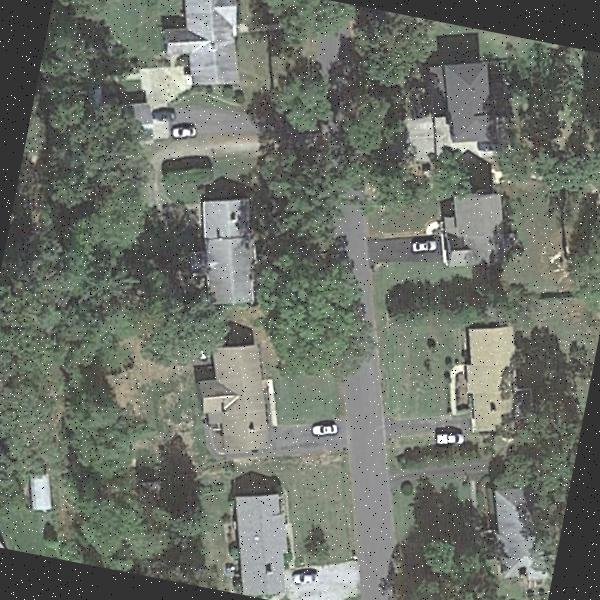Buildings: (443, 306, 531, 435), (186, 346, 284, 456), (214, 484, 290, 598), (150, 0, 245, 87), (429, 56, 505, 142), (190, 200, 256, 298), (444, 189, 514, 276)
